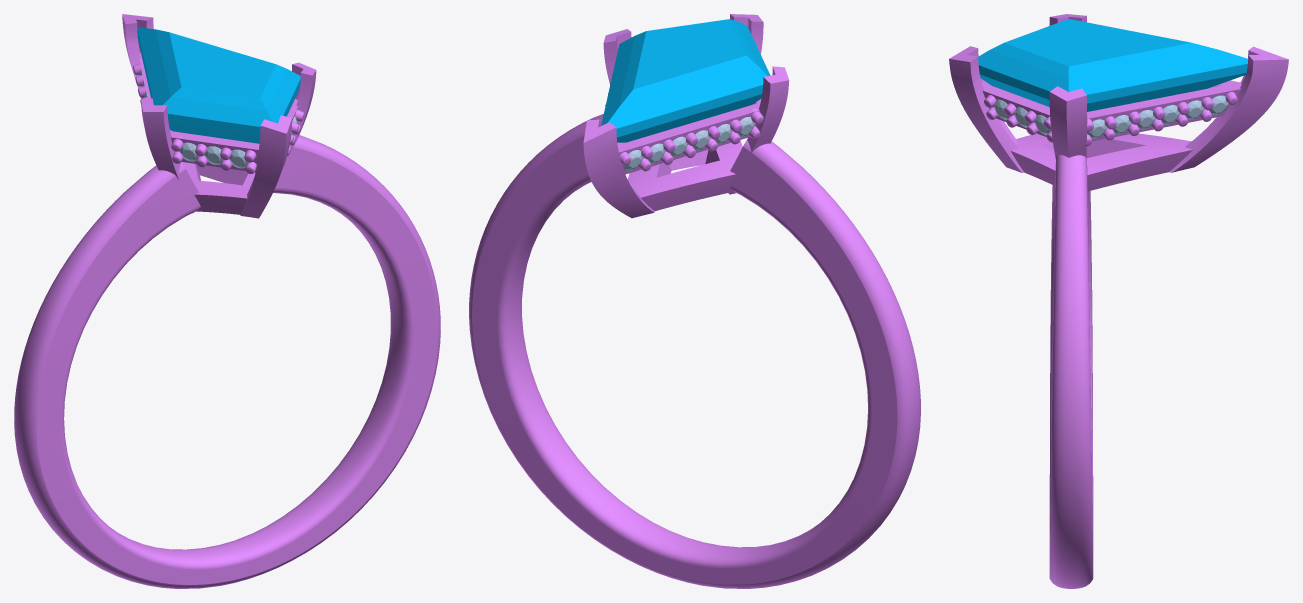
3 views of the same model, side by side, from view 1: azimuth 30°, elevation 25°; view 2: azimuth 150°, elevation 25°; view 3: azimuth 270°, elevation 25° (orthographic). The views are drawn at different scales.
Parts seen in each view (by area): view 1: render.3dm, SERPENT, Bazel Gallery (×2); view 2: render.3dm, SERPENT, Bazel Gallery (×2); view 3: render.3dm, SERPENT, Bazel Gallery (×2).
Boxes of the visible parts, box(x1,y1,x2,y2) form: render.3dm: box(14, 14, 440, 588); SERPENT: box(137, 27, 300, 143); Bazel Gallery (×2): box(139, 52, 298, 214); render.3dm: box(469, 14, 920, 588); SERPENT: box(601, 19, 770, 142); Bazel Gallery (×2): box(617, 99, 761, 211); render.3dm: box(949, 14, 1288, 588); SERPENT: box(978, 19, 1247, 111); Bazel Gallery (×2): box(982, 80, 1241, 191).
Size of the model in its own units: 2.39 by 2.76 by 1.63.
